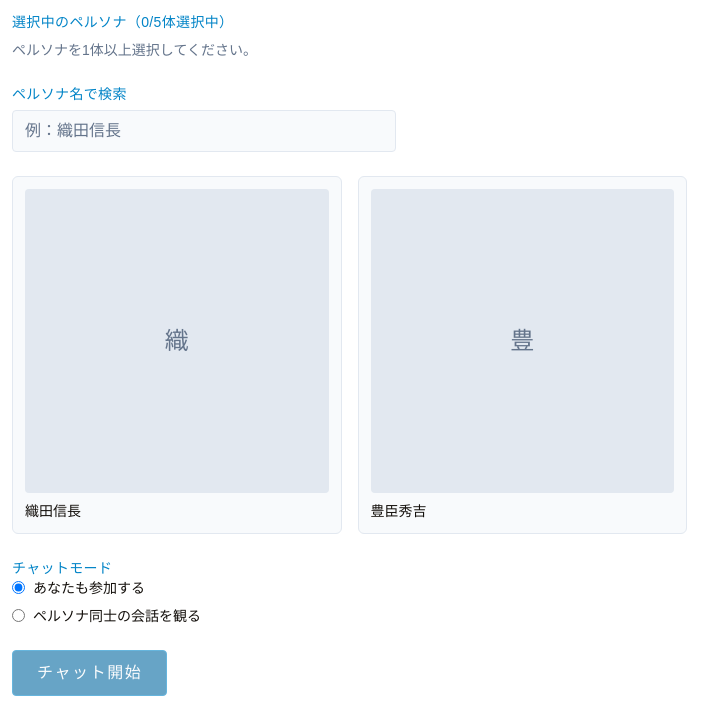
Test: PersonaSelector › 検索欄に入力すると選択可能な一覧が絞り込まれる
Type "信長" into the field labelled "ペルソナ名で検索". click: (204, 131)
box: [12,110,396,152]
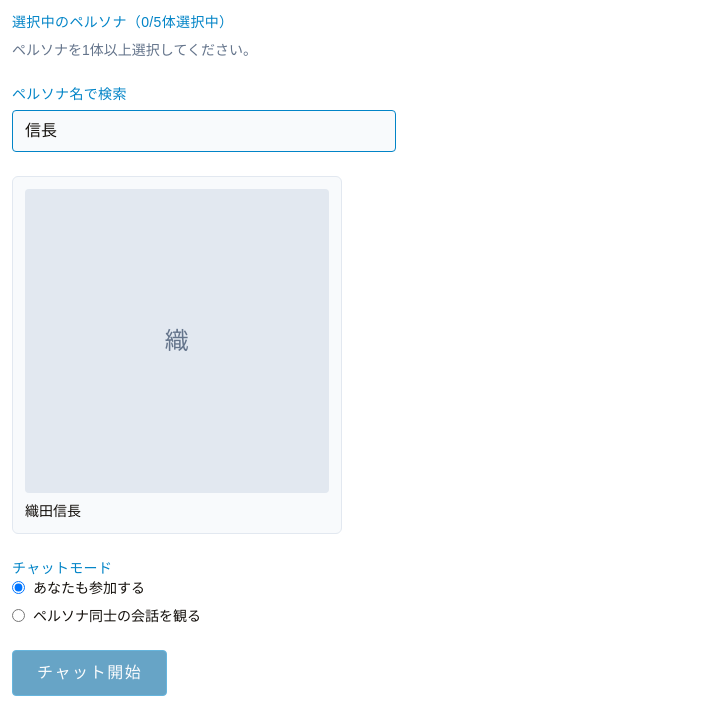
Expected: the button "織 織田信長" is shown, [12,176,342,534]
Expected: the button "豊臣秀吉" is gone
